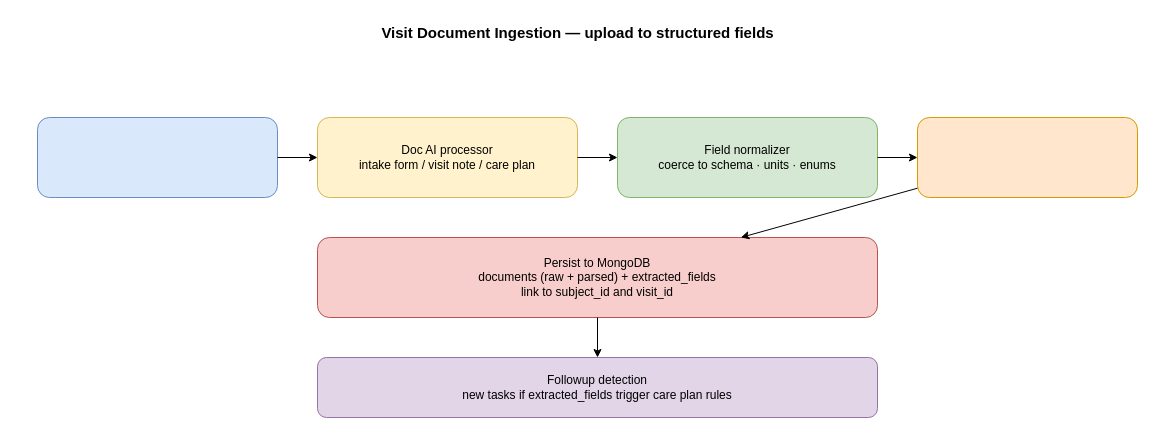
This 1155x435 diagram has some shape labels left out. Here are the shapes that lost their labels. From the top down, the centre of each, then its label:
At point 157,157: "POST /visits/{id}/documents file + doc_type + visit_id".
At point 1027,157: "Validation required fields · ranges · cross-field rules".
